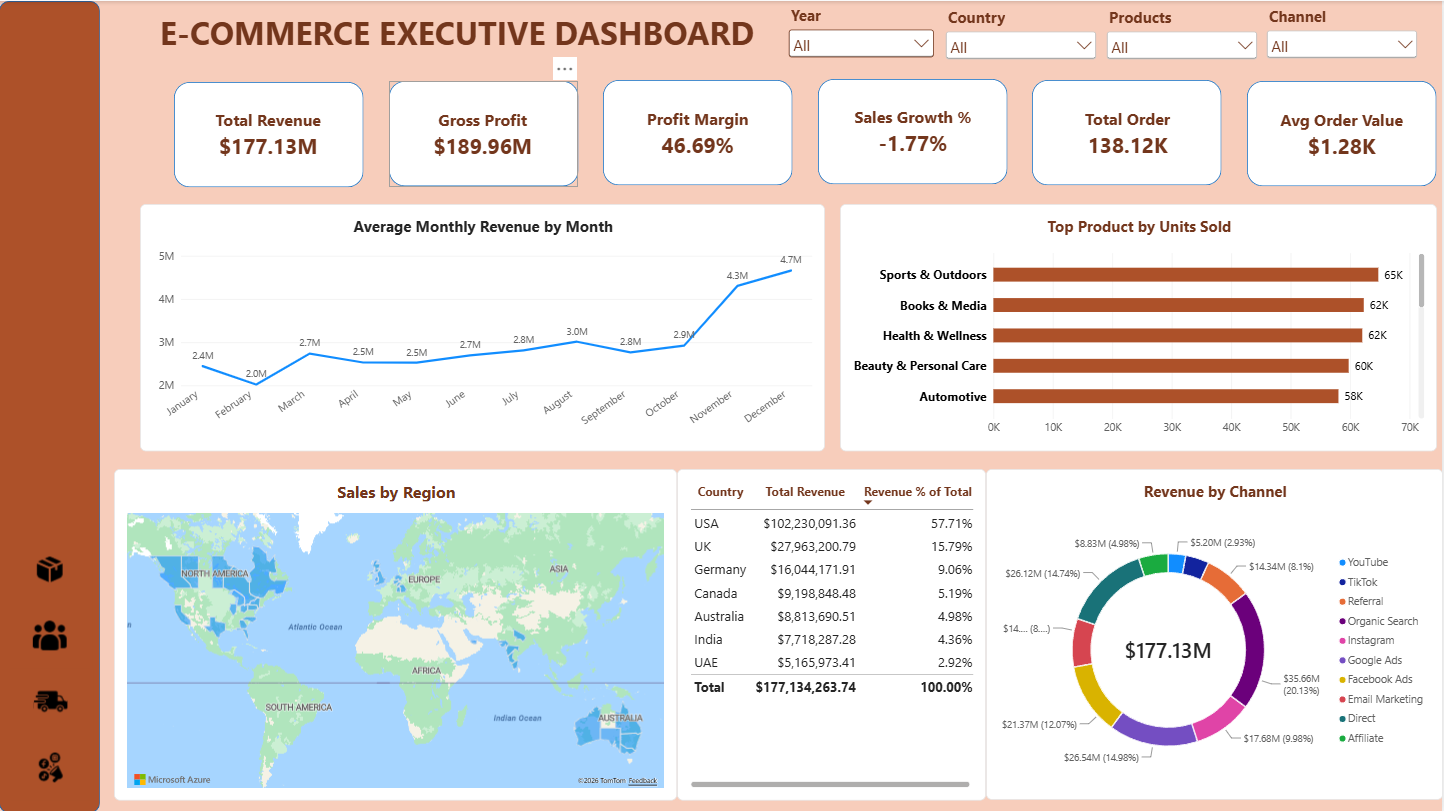

Layout of this report page (visuals, bound fields, positions):
{"tool":"powerbi","page":{"name":"Exec Dashboard","canvas":[1920,1080],"ordinal":0},"visuals":[{"type":"shape","box":[803.6,104.5,252,140],"z":0},{"type":"shape","box":[518.2,106.9,252,140],"z":1000},{"type":"shape","box":[232.8,107.7,252,140],"z":2000},{"type":"cardVisual","fields":{"Data":["Measure Table.Profit Margin"]},"box":[843.6,120.9,172.5,111.5],"z":3000},{"type":"cardVisual","fields":{"Data":["Measure Table.Total Revenue"]},"box":[249.4,117.9,217,118.2],"z":4000},{"type":"lineChart","fields":{"Category":["Calendar.Month"],"Y":["Measure Table.Average Monthly Revenue"]},"box":[188.2,270.1,911.2,329.3],"z":5000},{"type":"clusteredBarChart","title":"Top Product by Units Sold","fields":{"Category":["products.product_category"],"Y":["Measure Table.Unit Sold"]},"box":[1118.5,270.1,794.5,329.3],"z":6000},{"type":"cardVisual","fields":{"Data":["Measure Table.Gross Profit"]},"box":[557.9,122.5,172.5,111.5],"z":7000},{"type":"textbox","box":[81.7,0,1041.7,81.7],"z":8000},{"type":"tableEx","title":"Units Sold by Country","fields":{"Values":["customer.customer_country","Measure Table.Total Revenue","Measure Table.Revenue % of Total"]},"box":[901.8,622.5,411.2,440.8],"z":9000},{"type":"azureMap","title":"Sales by Region","fields":{"Category":["customer.customer_state"]},"box":[153,622.5,749.2,440.8],"z":10000},{"type":"shape","box":[1374.5,105.3,252,140],"z":11000},{"type":"shape","box":[1089,103.7,252,140],"z":12000},{"type":"shape","box":[1659.9,106.1,252,140],"z":13000},{"type":"shape","box":[0,0,134.3,1080],"z":14000},{"type":"cardVisual","fields":{"Data":["Measure Table.Total Order"]},"box":[1415.1,120.9,172.5,111.5],"z":15000},{"type":"cardVisual","fields":{"Data":["Measure Table.Average Order Value"]},"box":[1687.2,122.5,196.8,111.7],"z":16000},{"type":"cardVisual","fields":{"Data":["Measure Table.Sales Growth %"]},"box":[1118.7,117.9,194.2,111.7],"z":17000},{"type":"slicer","title":"Year","fields":{"Values":["Calendar.Year"]},"box":[1045.4,3.5,202.6,99.8],"z":18000},{"type":"slicer","fields":{"Values":["customer.customer_country"]},"box":[1254.8,6,210.1,81.6],"z":19000},{"type":"slicer","fields":{"Values":["products.product_category"]},"box":[1468.1,6,210.1,81.6],"z":20000},{"type":"donutChart","title":"Revenue by Channel","fields":{"Category":["sales.marketing_channel"],"Y":["Measure Table.Total Revenue"]},"box":[1312.8,622.5,607.8,440.2],"z":21000},{"type":"slicer","fields":{"Values":["sales.marketing_channel"]},"box":[1681.3,5.2,210.1,81.6],"z":22000},{"type":"actionButton","box":[13.3,887.1,111.7,88.3],"z":23000},{"type":"actionButton","box":[12,711.6,111.7,88.3],"z":24000},{"type":"actionButton","box":[12,799.4,111.7,88.3],"z":25000},{"type":"actionButton","box":[13.3,974.9,111.7,88.3],"z":26000}]}

Visuals, with their boxes on the page's 1920x1080 design canvas (x1, y1, x2, y2). These are canvas units, not pixel positions in the 1444x811 screenshot, which may show the page scaled, cropped or inside an application window:
shape: crop(804, 104, 1056, 244)
shape: crop(518, 107, 770, 247)
shape: crop(233, 108, 485, 248)
cardVisual - Measure Table.Profit Margin: crop(844, 121, 1016, 232)
cardVisual - Measure Table.Total Revenue: crop(249, 118, 466, 236)
lineChart - Calendar.Month x Measure Table.Average Monthly Revenue: crop(188, 270, 1099, 599)
"Top Product by Units Sold" clusteredBarChart: crop(1118, 270, 1913, 599)
cardVisual - Measure Table.Gross Profit: crop(558, 122, 730, 234)
textbox: crop(82, 0, 1123, 82)
"Units Sold by Country" tableEx: crop(902, 622, 1313, 1063)
"Sales by Region" azureMap: crop(153, 622, 902, 1063)
shape: crop(1374, 105, 1626, 245)
shape: crop(1089, 104, 1341, 244)
shape: crop(1660, 106, 1912, 246)
shape: crop(0, 0, 134, 1080)
cardVisual - Measure Table.Total Order: crop(1415, 121, 1588, 232)
cardVisual - Measure Table.Average Order Value: crop(1687, 122, 1884, 234)
cardVisual - Measure Table.Sales Growth %: crop(1119, 118, 1313, 230)
"Year" slicer: crop(1045, 4, 1248, 103)
slicer - customer.customer_country: crop(1255, 6, 1465, 88)
slicer - products.product_category: crop(1468, 6, 1678, 88)
"Revenue by Channel" donutChart: crop(1313, 622, 1921, 1063)
slicer - sales.marketing_channel: crop(1681, 5, 1891, 87)
actionButton: crop(13, 887, 125, 975)
actionButton: crop(12, 712, 124, 800)
actionButton: crop(12, 799, 124, 888)
actionButton: crop(13, 975, 125, 1063)
